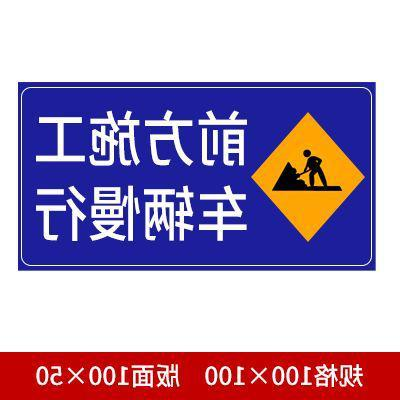sign: (18, 85, 372, 267)
